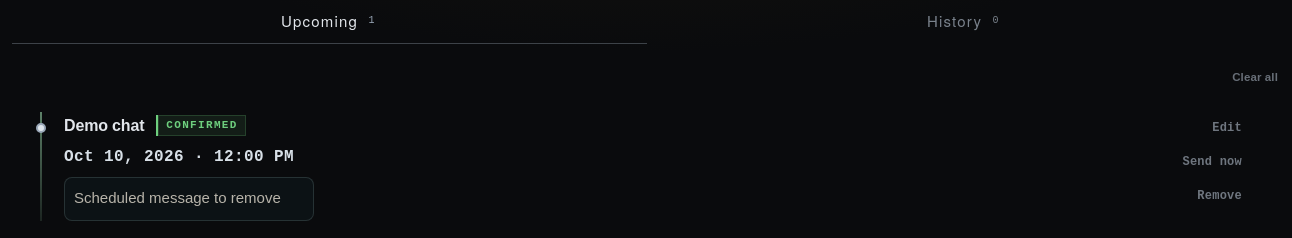
send now cancellation recovery › marks the message pending when cancel succeeds but immediate send fails
Click the button "Send now".
click(1212, 162)  # box [1178,149,1246,175]
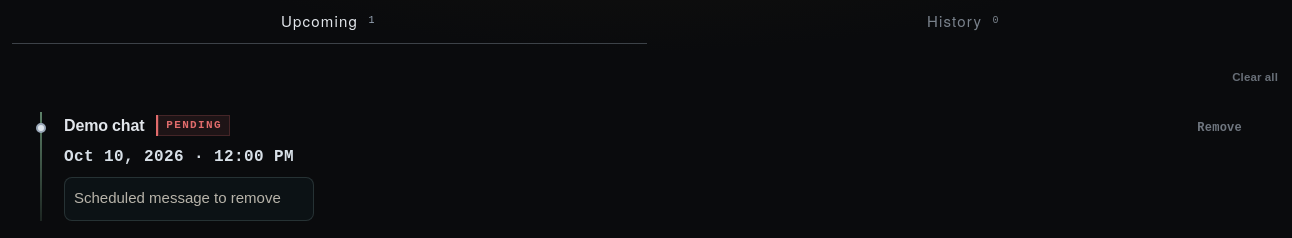
Expected: the text "Scheduled message to remove" is shown, [74,189,281,206]
Result: the text "Pending" is shown at [156,115,230,136]
